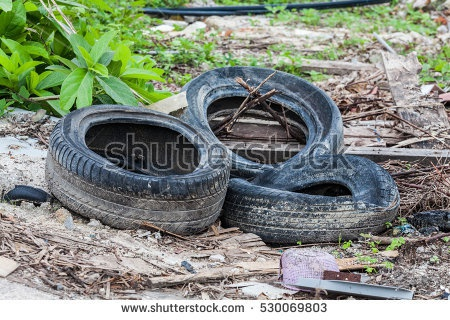tire: (43, 104, 232, 238), (175, 65, 349, 175), (218, 151, 403, 240)
